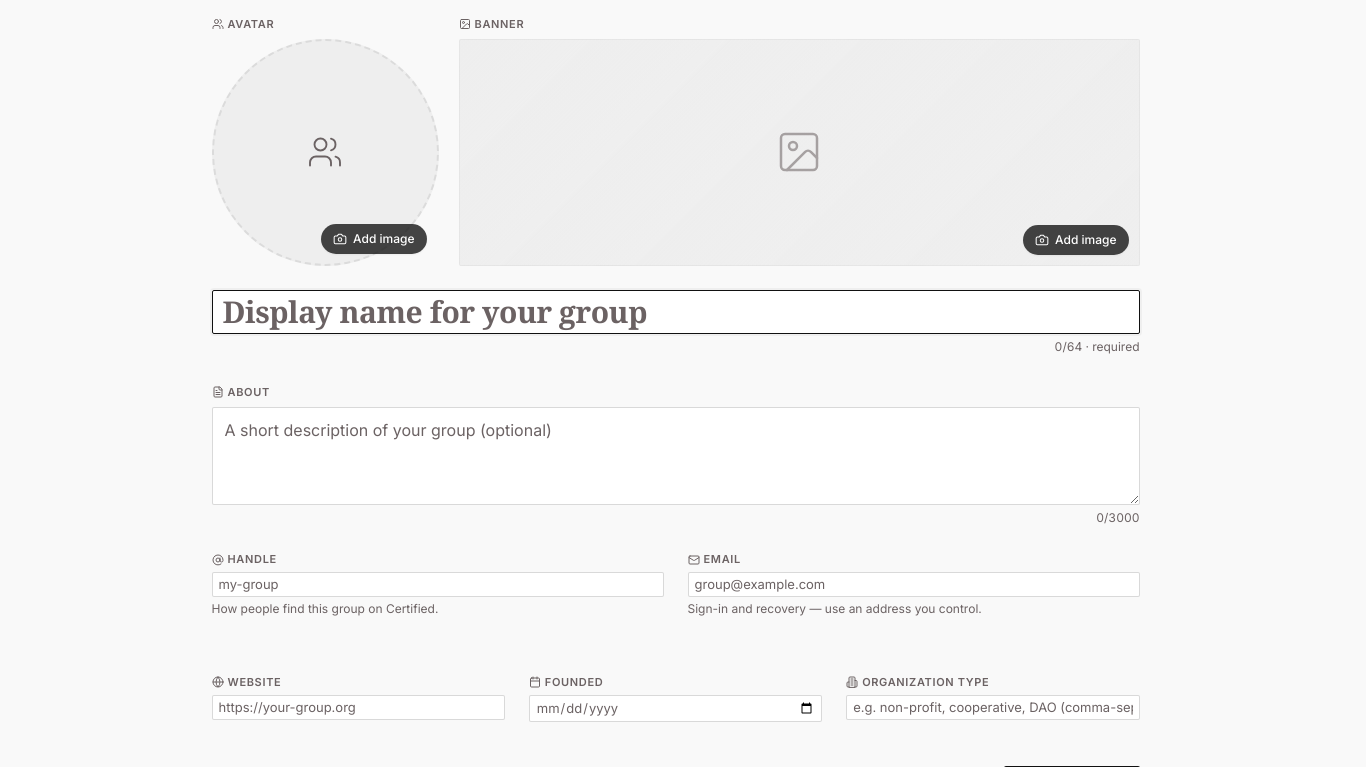
CreateGroupPage email validation › shows 'Enter a valid email address' for an invalid email on blur
In the field named "Group email": (914, 585) [688,572,1140,597], type "not-an-email"
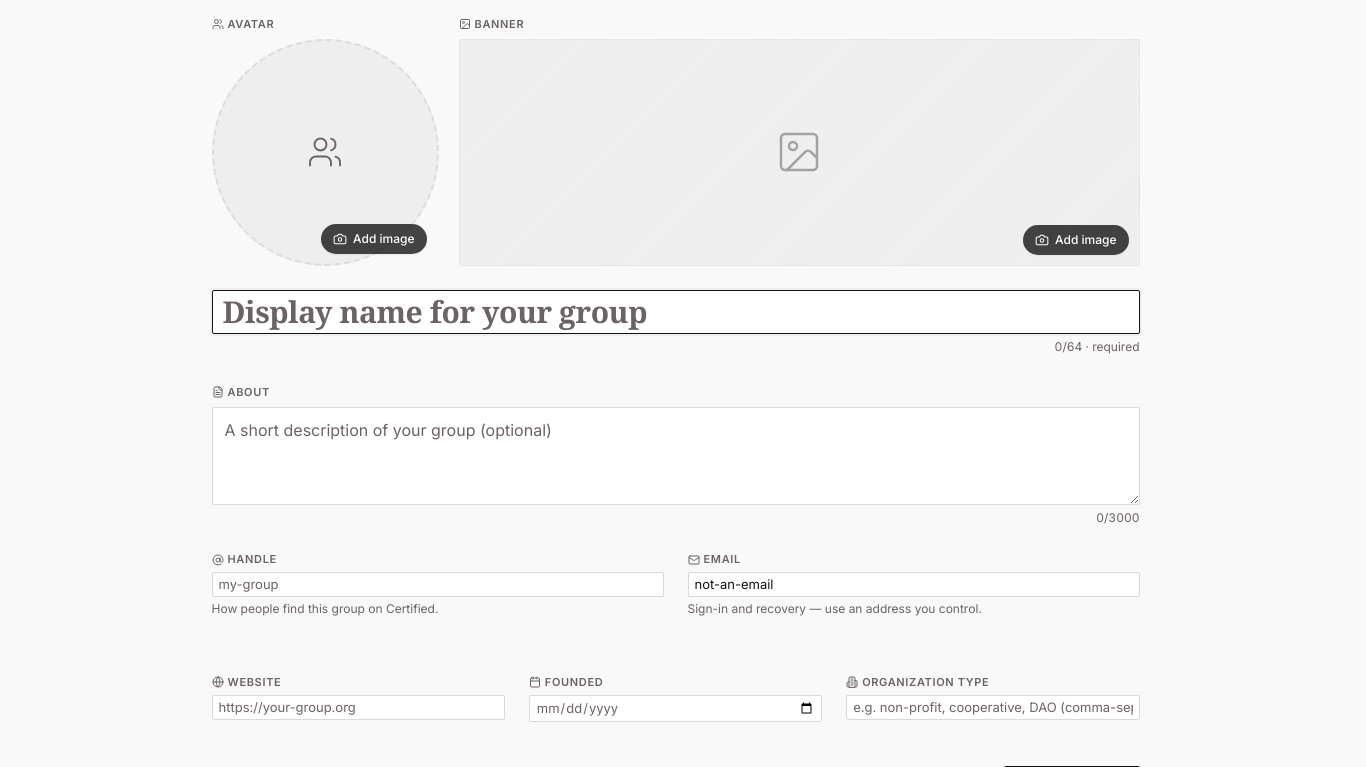
Leave the field named "Group email", box [688,572,1140,597]
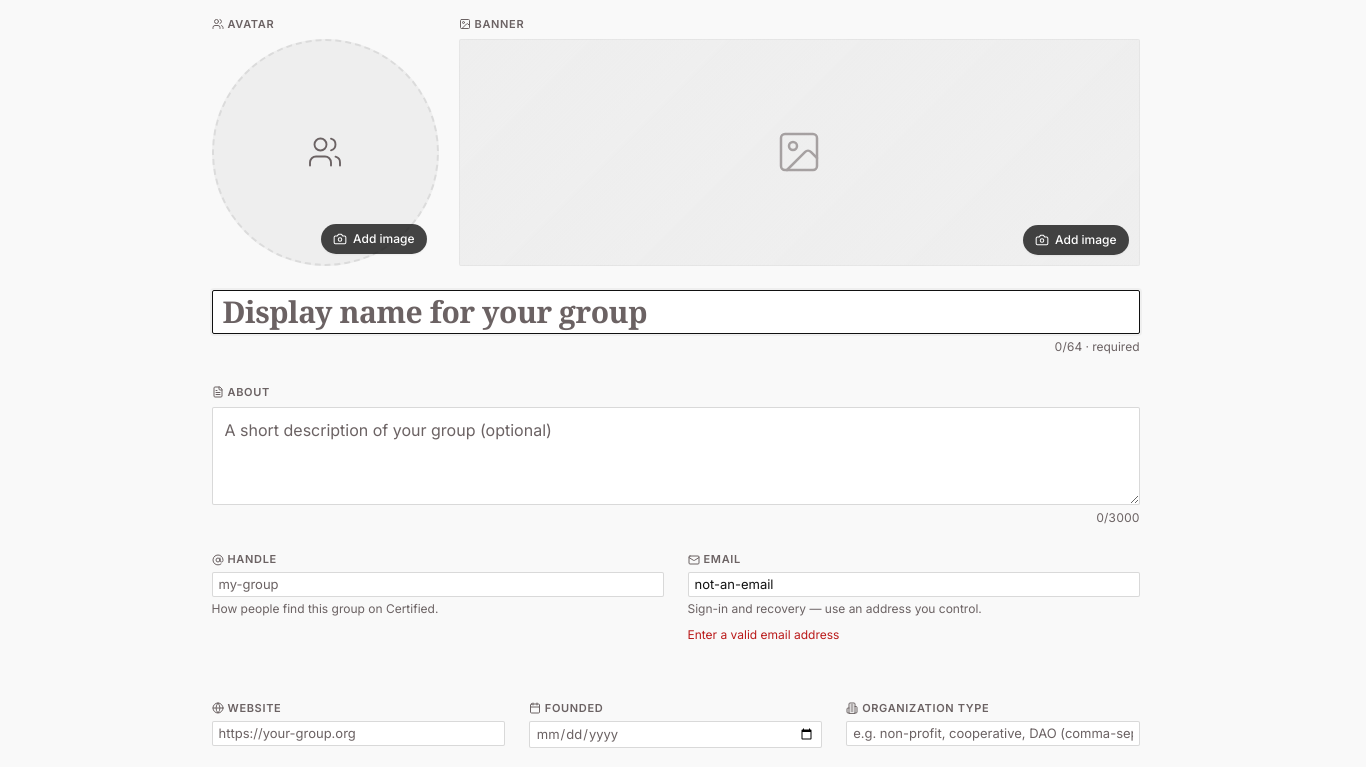
Now the text "Enter a valid email address" is shown, box [688,627,839,642]
